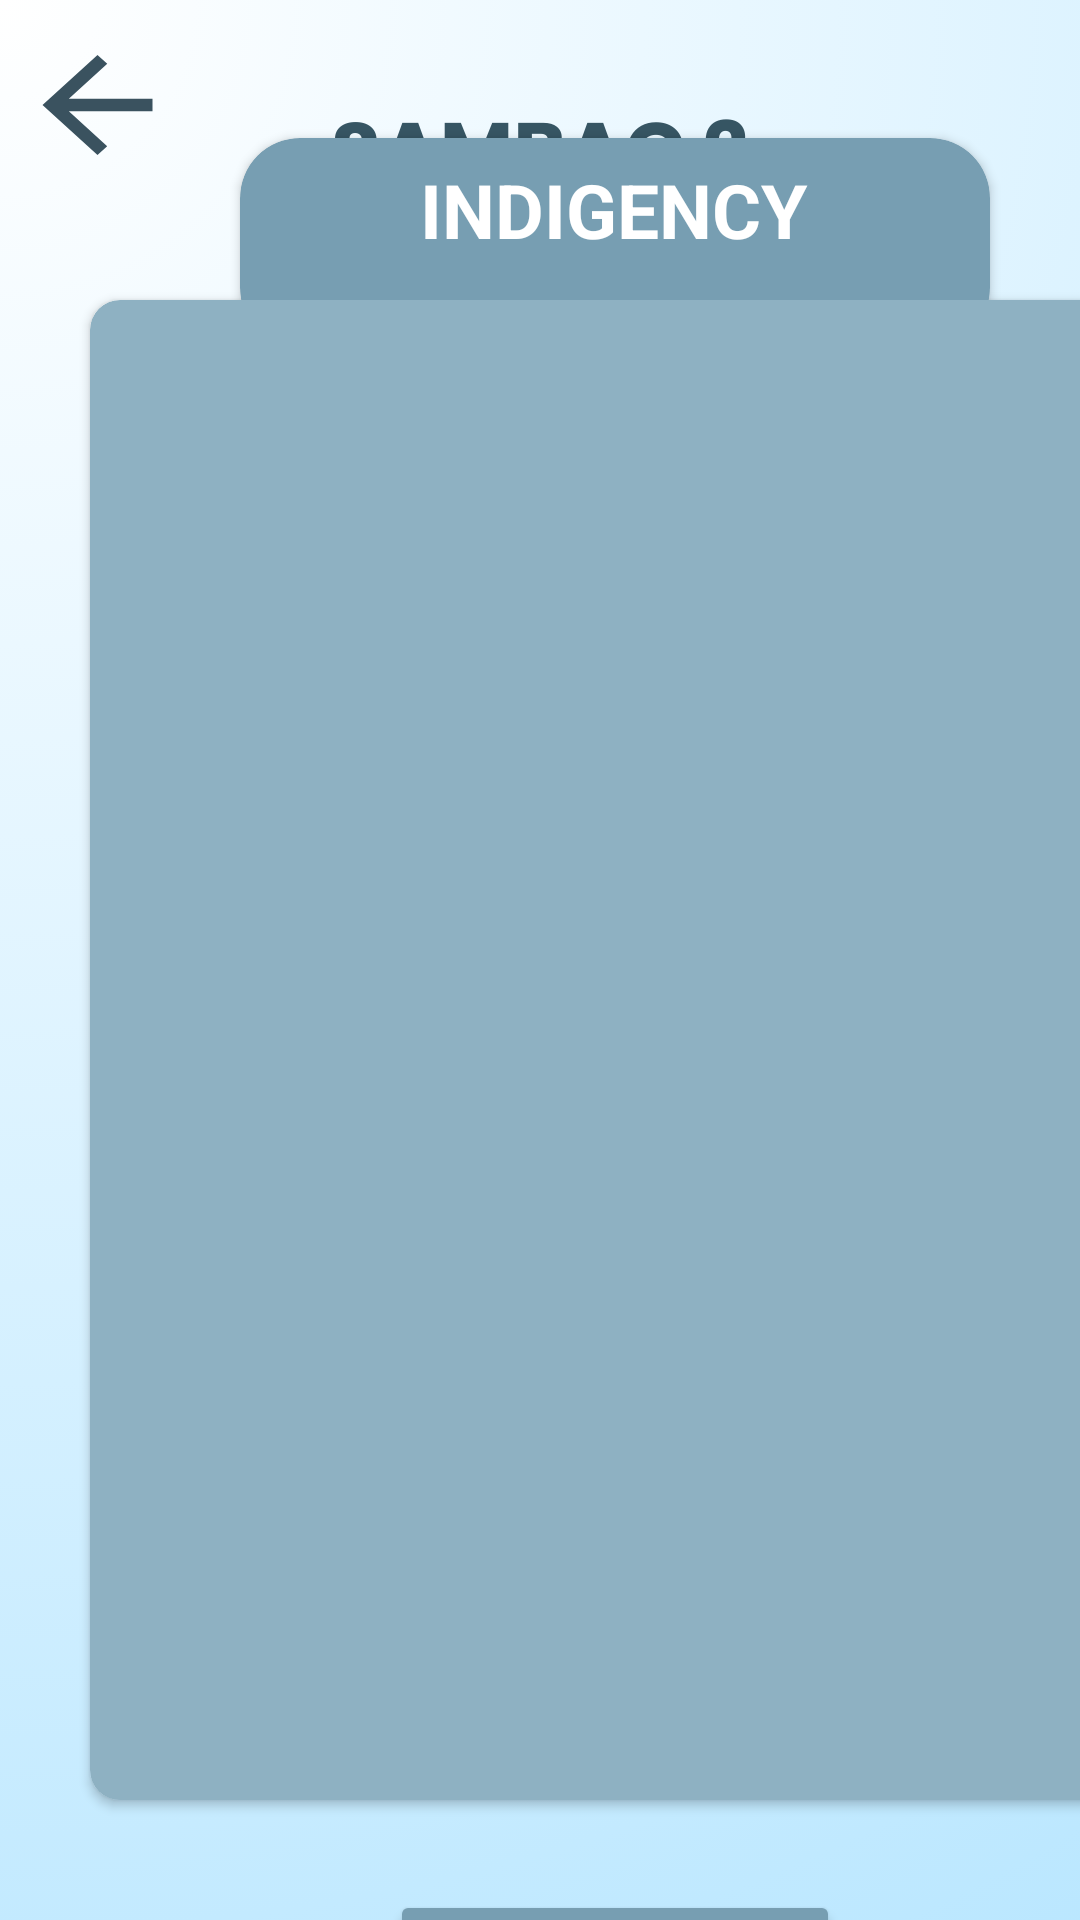

Screen size 1080x1920. Icon name, then its center in pixels as (x,y):
back: (98,105)
